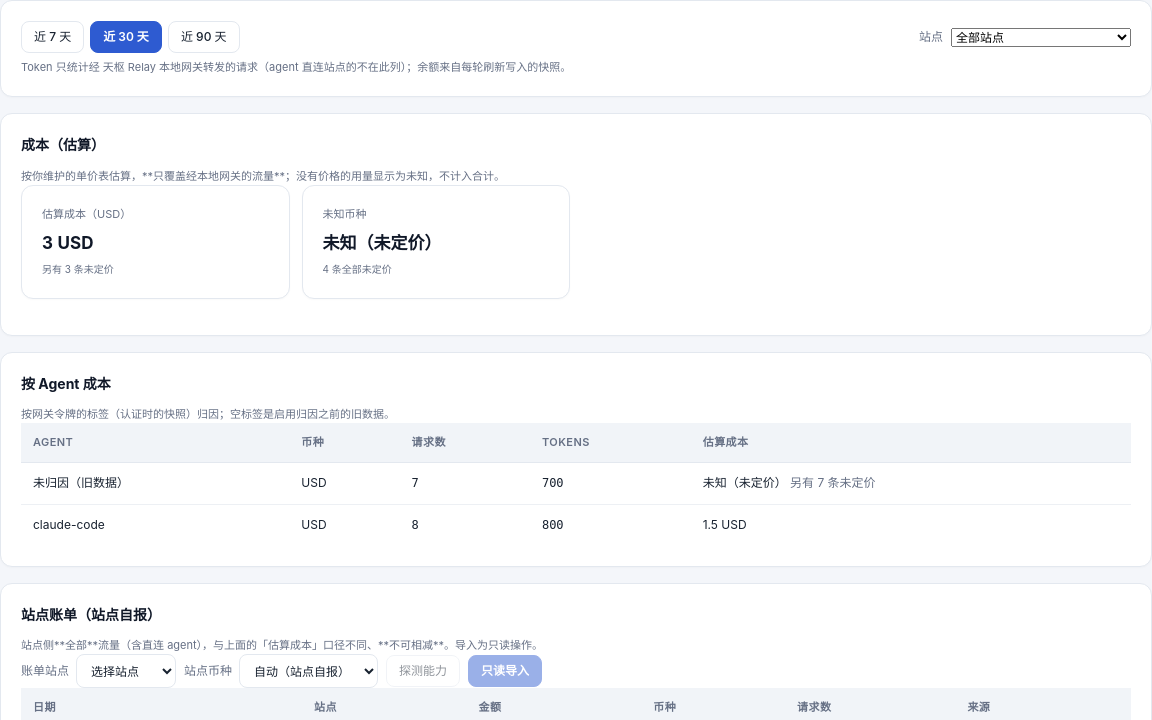
Test case: Cost › B-230：导入币种覆盖时标注所用币种
The image size is (1152, 720).
Expected: the heading "站点账单（站点自报）" is shown, [21,606,161,623]
Select "Alpha" in the dropdown labelled "账单站点": x=126, y=671 [76,654,176,688]
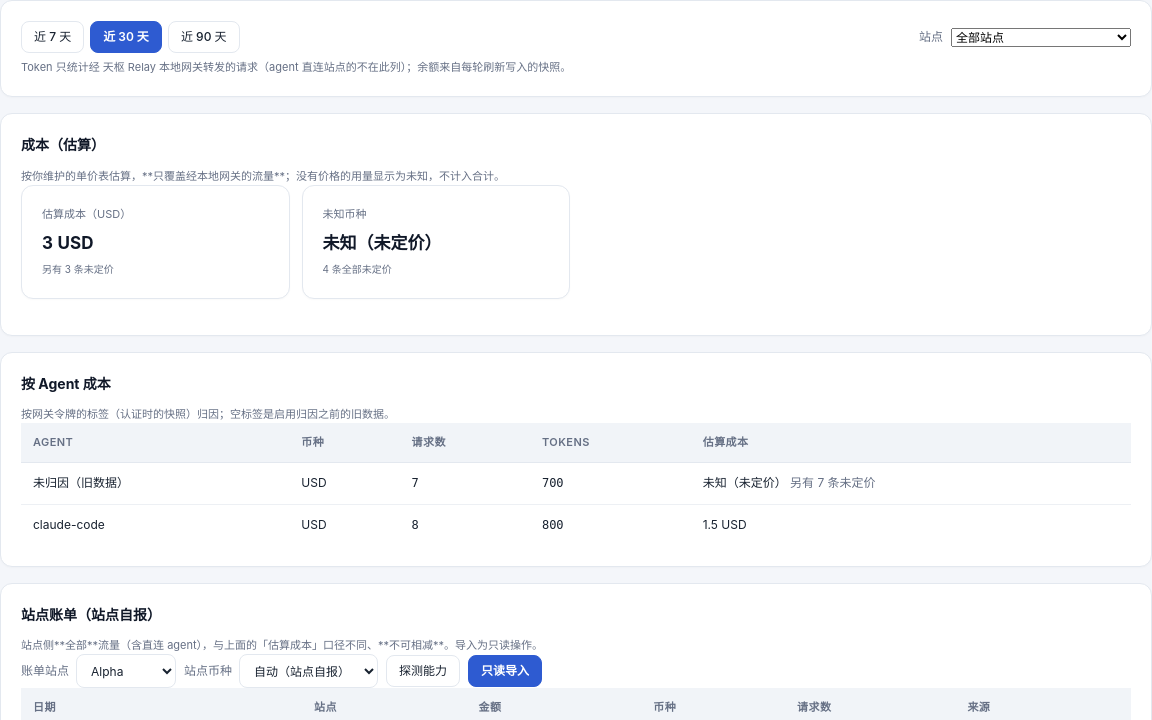
Click the button "只读导入": x=505, y=671 [468,655,542,687]
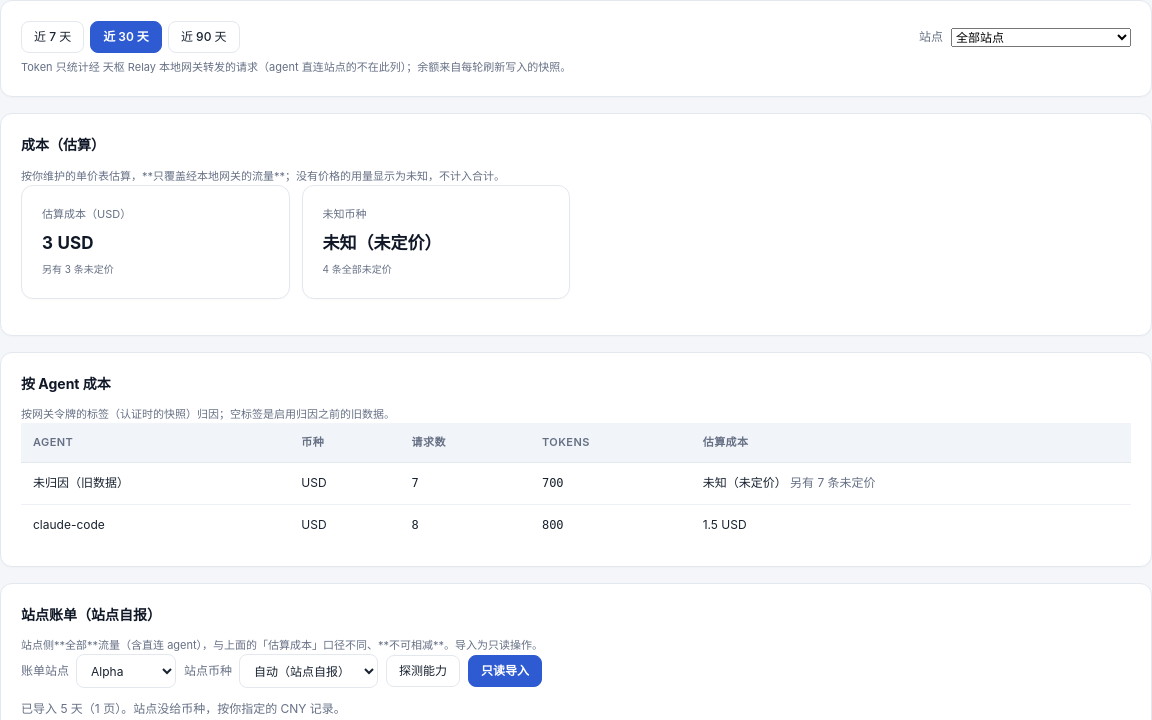
Result: the text "已导入 5 天（1 页）。站点没给币种，按你指定的 CNY 记录。" is shown at [21,701,346,716]
